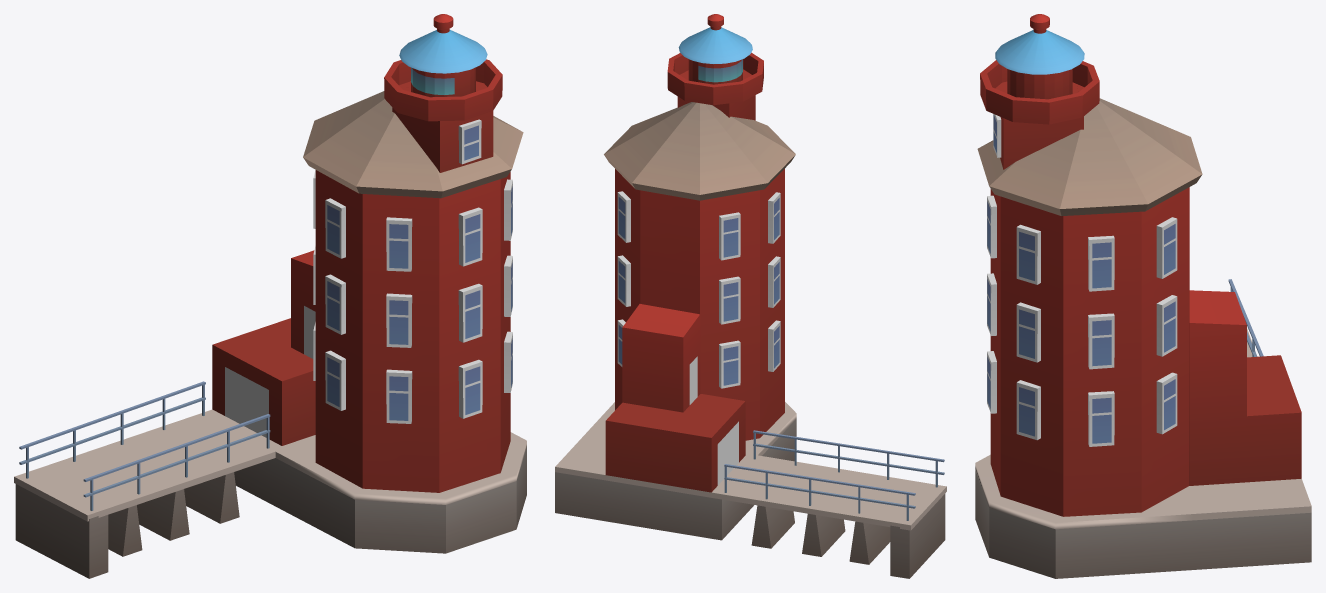
File: Lighthouse_Kjeungskjar.fbx
3 renders of one model, left to right at view 1: azimuth 30°, elevation 25°; view 2: azimuth 150°, elevation 25°; view 3: azimuth 270°, elevation 25°, orthographic. The views are drawn at different scales.
Visible parts, largest first — view 1: Lighthouse_Kjeungskjar; view 2: Lighthouse_Kjeungskjar; view 3: Lighthouse_Kjeungskjar.
Part boxes in pixels (x1,y1,x2,y2): Lighthouse_Kjeungskjar: [14, 14, 526, 578]; Lighthouse_Kjeungskjar: [555, 14, 946, 578]; Lighthouse_Kjeungskjar: [975, 14, 1311, 578].
Size of the model in its own units: 0.7283 by 0.855 by 0.4935.
Materials: 1 (1 with a texture image).
